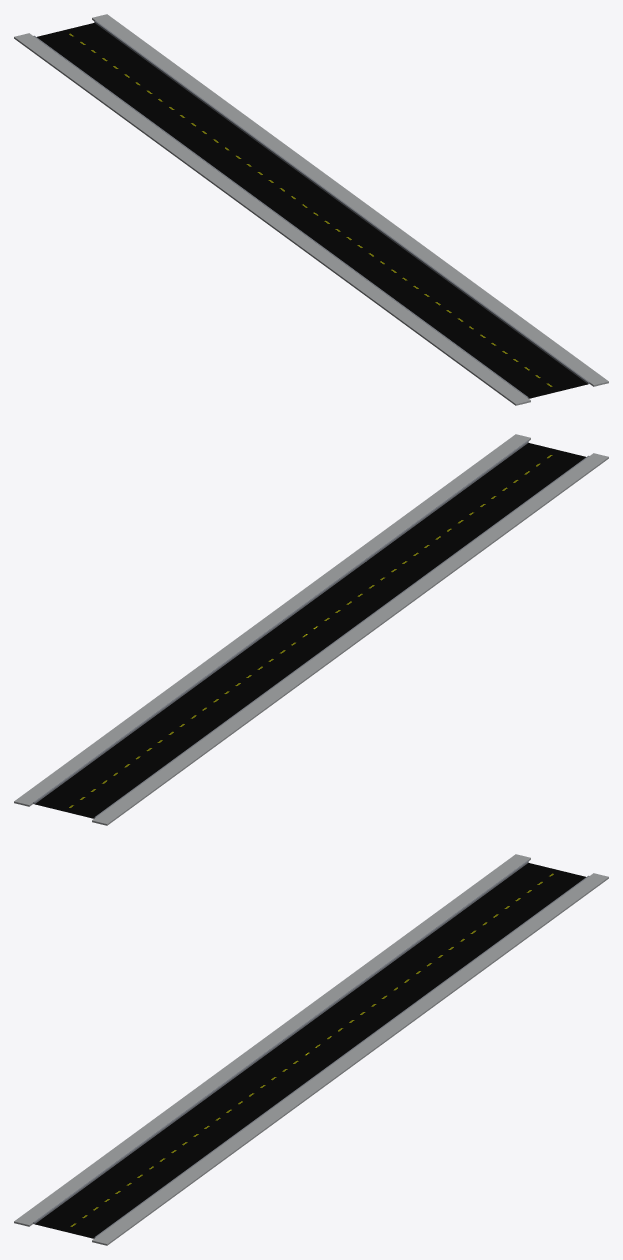
File: Street.glb
The picture shows the model from 3 angles, top to bottom: view 1: azimuth 30°, elevation 25°; view 2: azimuth 150°, elevation 25°; view 3: azimuth 330°, elevation 25°; orthographic projection.
Parts seen in each view (by area): view 1: Road, Sidewalk, Curb; view 2: Road, Sidewalk, Curb; view 3: Road, Sidewalk, Curb.
Part boxes in pixels (bbox=[...]): Road: bbox=[37, 23, 587, 398]; Sidewalk: bbox=[14, 14, 608, 405]; Curb: bbox=[33, 20, 589, 398]; Road: bbox=[35, 443, 585, 818]; Sidewalk: bbox=[14, 434, 608, 825]; Curb: bbox=[33, 440, 589, 818]; Road: bbox=[35, 863, 585, 1238]; Sidewalk: bbox=[14, 854, 608, 1245]; Curb: bbox=[33, 860, 589, 1238].
Bounding box in the file's own units: 10.9 × 0.2 × 102.
Materials: 3 (1 with a texture image).
